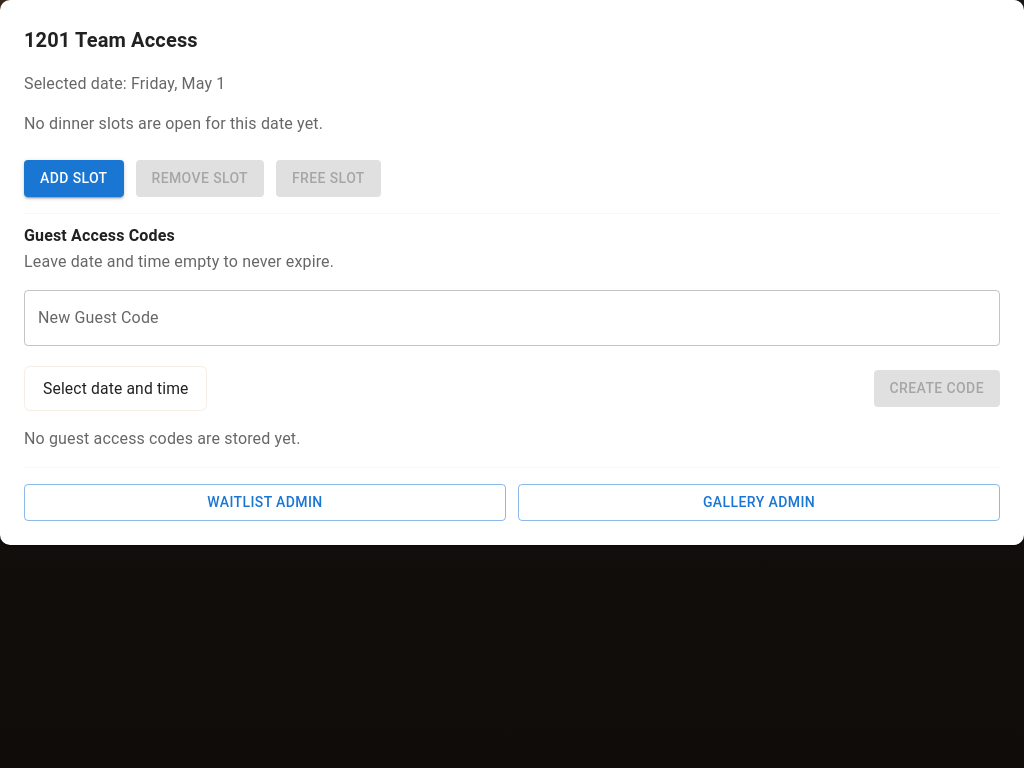
Test: StaffControlsCard – create access code form › Create Code button becomes enabled when a code is entered
The width and height of the screenshot is (1024, 768).
Type "NEWCODE" into the field labelled "New Guest Code" at x=512, y=318, box [24,290,1000,346]
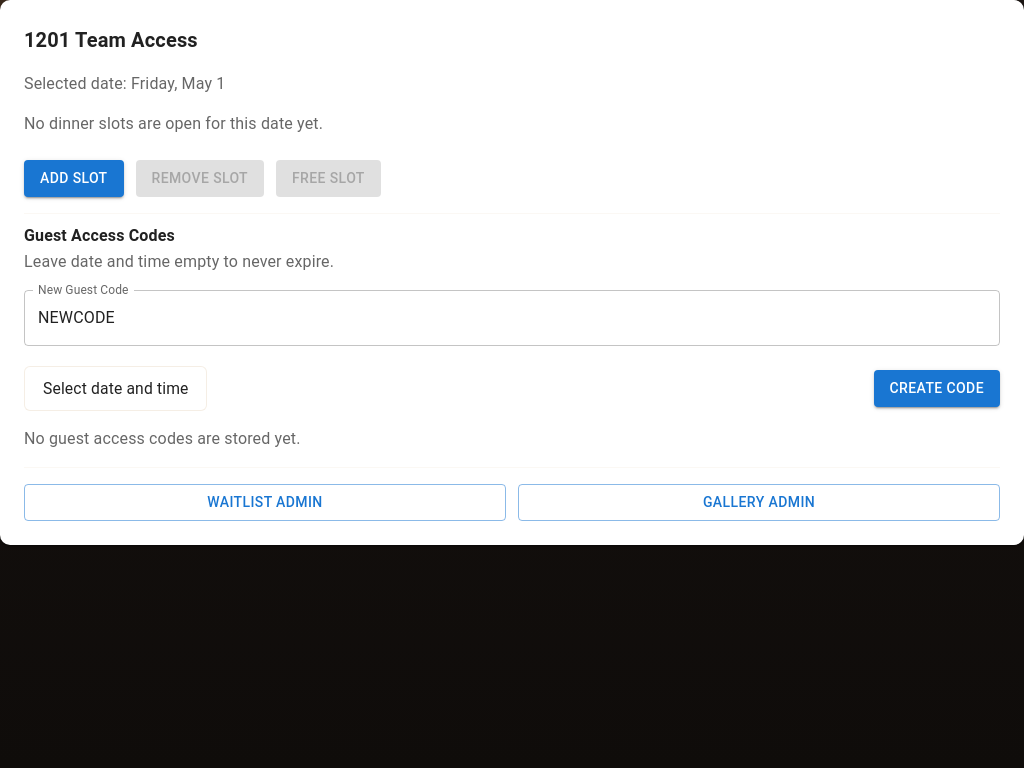
Now the button "Create Code" is enabled, box [874,370,1000,406]
